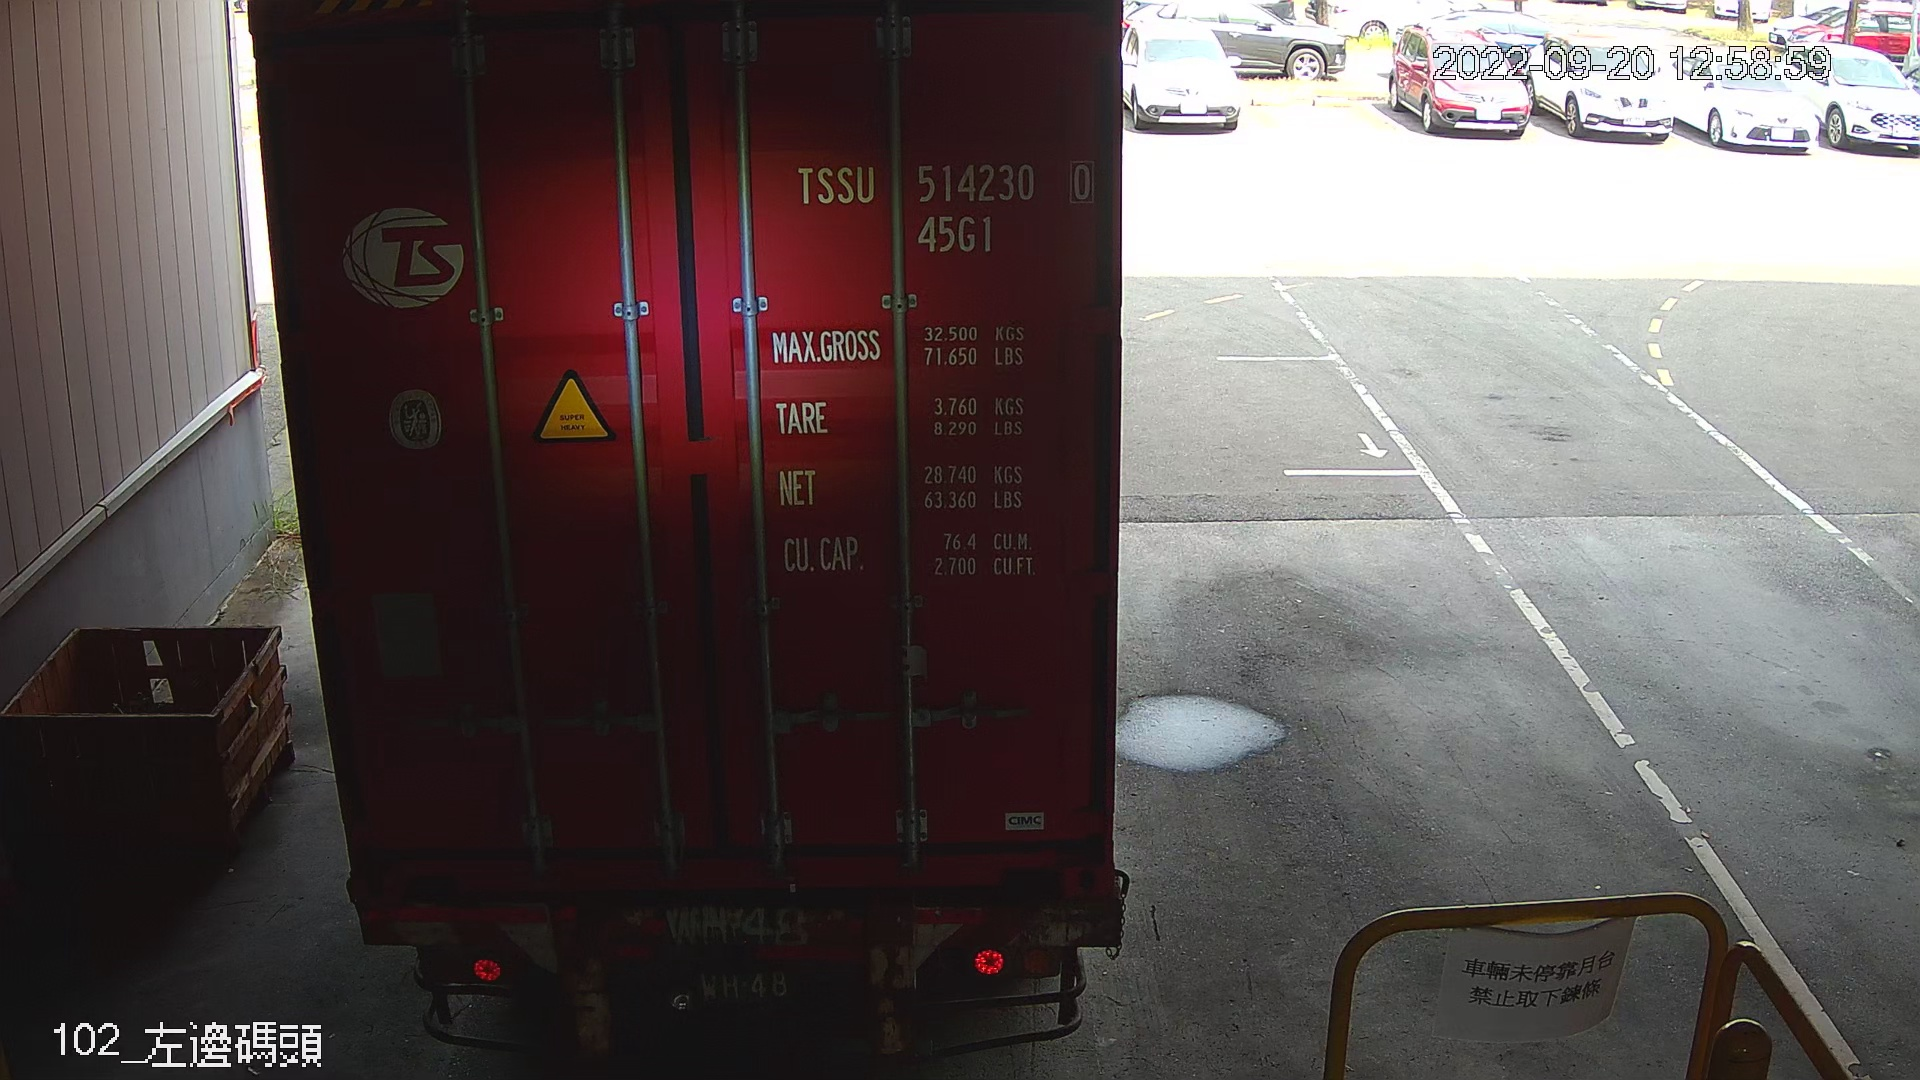container: (785, 148, 1106, 260)
